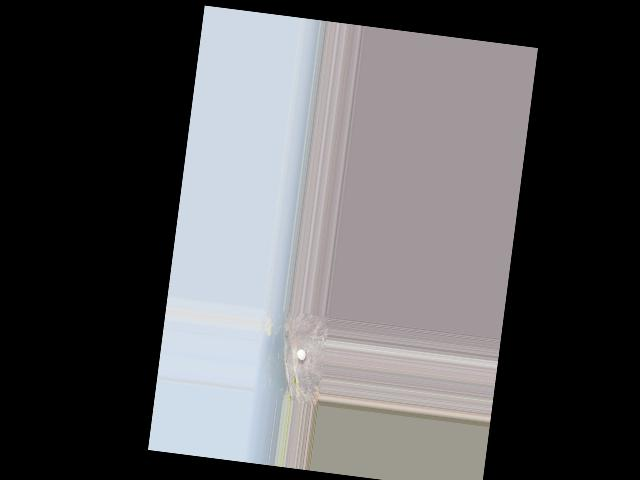egg: (296, 348, 306, 360)
